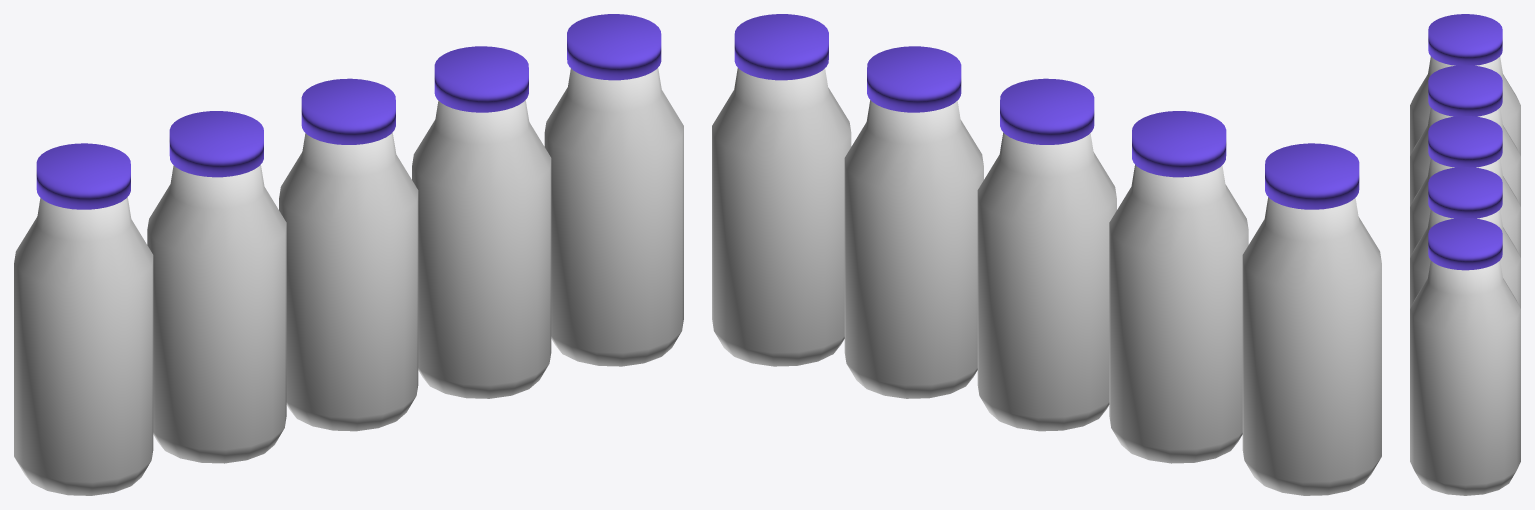
Rendered from bin.fbx.
3 views of the same model, side by side, from view 1: azimuth 30°, elevation 25°; view 2: azimuth 150°, elevation 25°; view 3: azimuth 270°, elevation 25° (orthographic). The views are drawn at different scales.
Parts seen in each view (by area): view 1: Bin.004, Bin.001, Bin.002, Bin.003, Bin, Cap.001, Cap.004, Cap.003, Cap.002, Cap; view 2: Bin.004, Bin.001, Bin.002, Bin.003, Bin, Cap.001, Cap.004, Cap.003, Cap.002, Cap; view 3: Bin.003, Cap.003, Cap.004, Cap, Cap.001, Cap.002, Bin.004, Bin, Bin.001, Bin.002.
Part boxes in pixels (left/top/right/bottom): Bin.004: left=14, top=197, right=153, bottom=495; Bin.001: left=412, top=100, right=551, bottom=398; Bin.002: left=147, top=164, right=286, bottom=463; Bin.003: left=544, top=67, right=683, bottom=366; Bin: left=279, top=132, right=418, bottom=431; Cap.001: left=434, top=46, right=528, bottom=112; Cap.004: left=36, top=143, right=130, bottom=209; Cap.003: left=567, top=14, right=661, bottom=80; Cap.002: left=169, top=111, right=263, bottom=177; Cap: left=301, top=78, right=395, bottom=144; Bin.004: left=1242, top=197, right=1381, bottom=495; Bin.001: left=844, top=100, right=983, bottom=398; Bin.002: left=1109, top=164, right=1248, bottom=463; Bin.003: left=712, top=67, right=851, bottom=366; Bin: left=977, top=132, right=1116, bottom=431; Cap.001: left=867, top=46, right=961, bottom=112; Cap.004: left=1265, top=143, right=1359, bottom=209; Cap.003: left=734, top=14, right=828, bottom=80; Cap.002: left=1132, top=111, right=1226, bottom=177; Cap: left=1000, top=78, right=1094, bottom=144; Bin.003: left=1410, top=260, right=1520, bottom=495; Cap.003: left=1428, top=218, right=1502, bottom=270; Cap.004: left=1428, top=14, right=1502, bottom=65; Cap: left=1428, top=116, right=1502, bottom=167; Cap.001: left=1428, top=167, right=1502, bottom=218; Cap.002: left=1428, top=65, right=1502, bottom=116; Bin.004: left=1410, top=56, right=1520, bottom=155; Bin: left=1410, top=158, right=1520, bottom=257; Bin.001: left=1410, top=209, right=1520, bottom=308; Bin.002: left=1410, top=108, right=1520, bottom=206.
Size of the model in its own units: 606 by 273 by 113.
